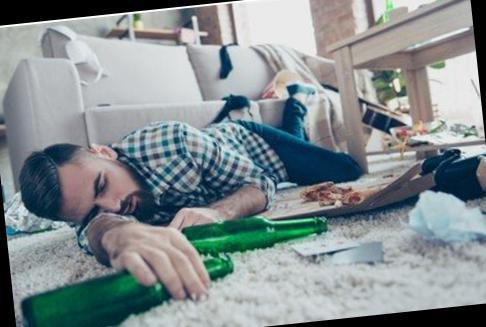Drunk: (57, 162, 147, 221)
